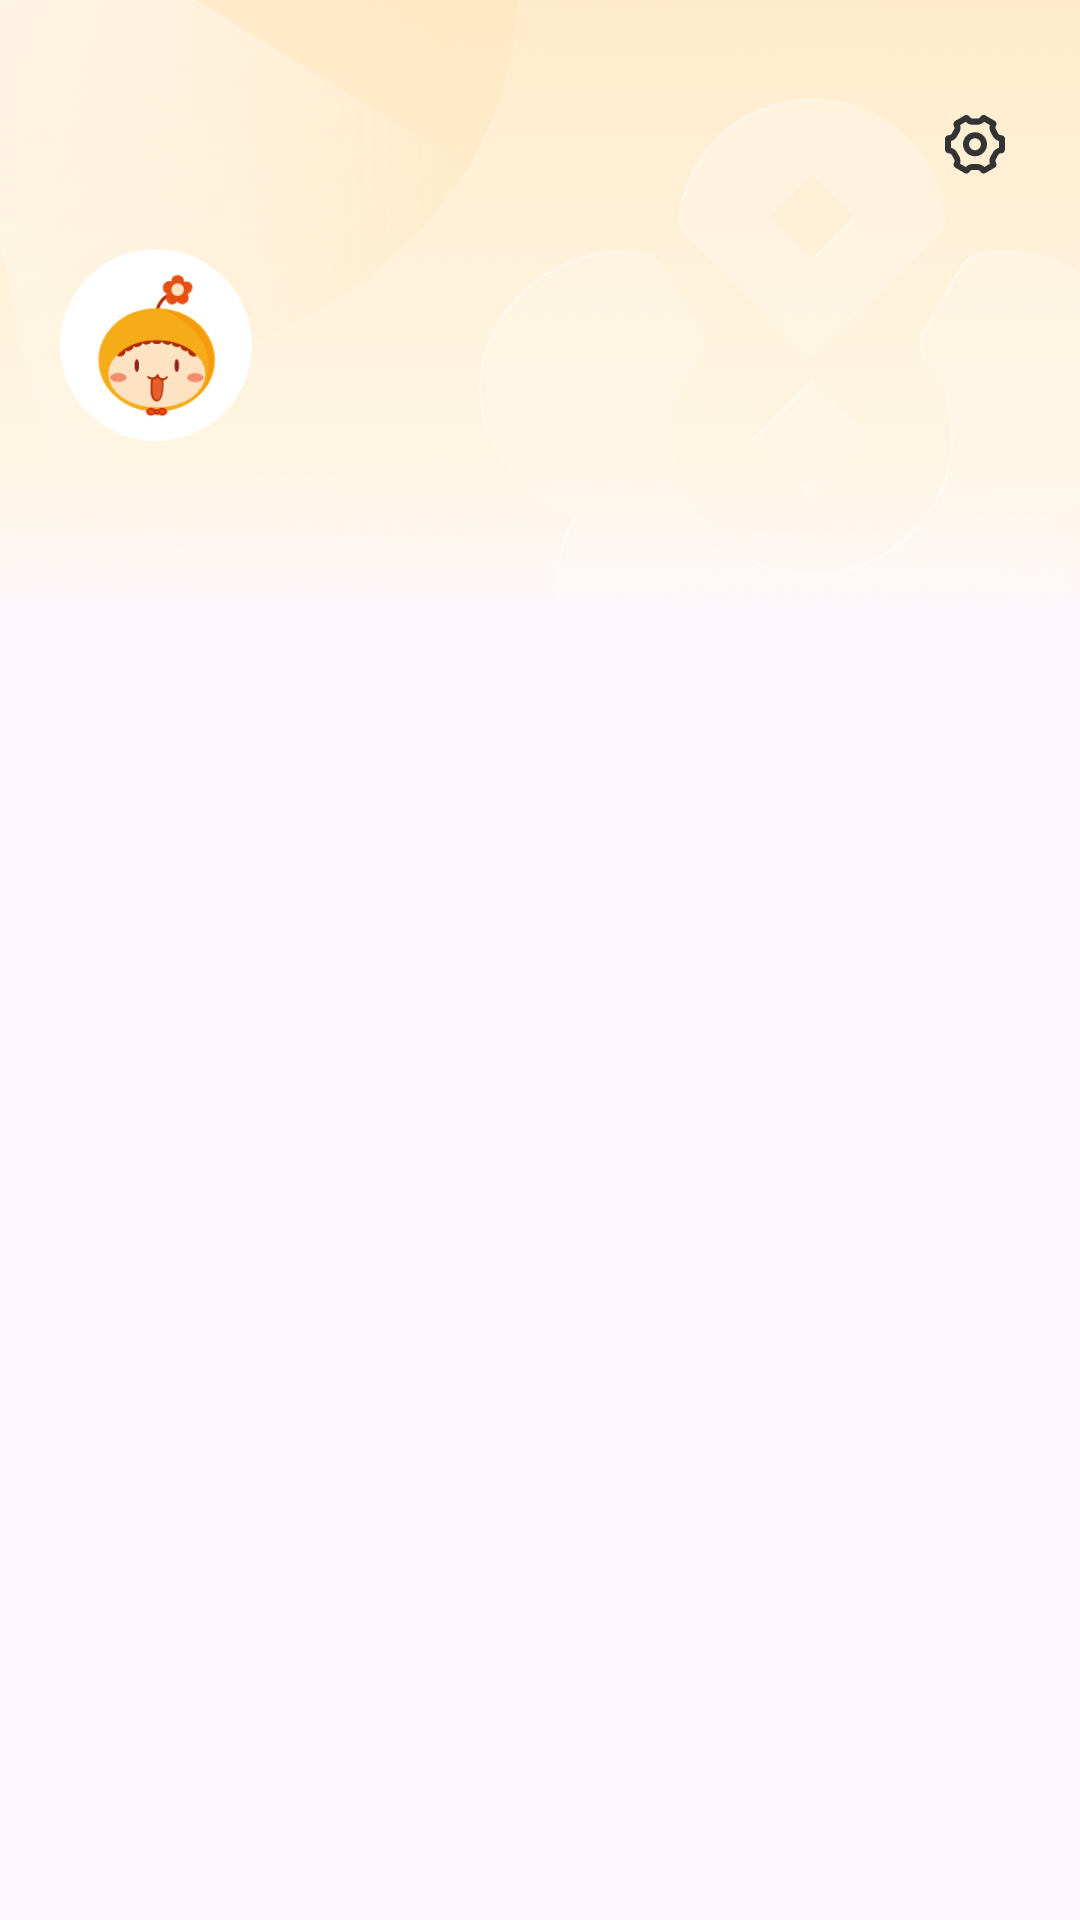

Named icons in this screenshot (1080w x 1920h) and their centers, (x,y):
info settings: (975,144)
myinfo login head: (156,345)
